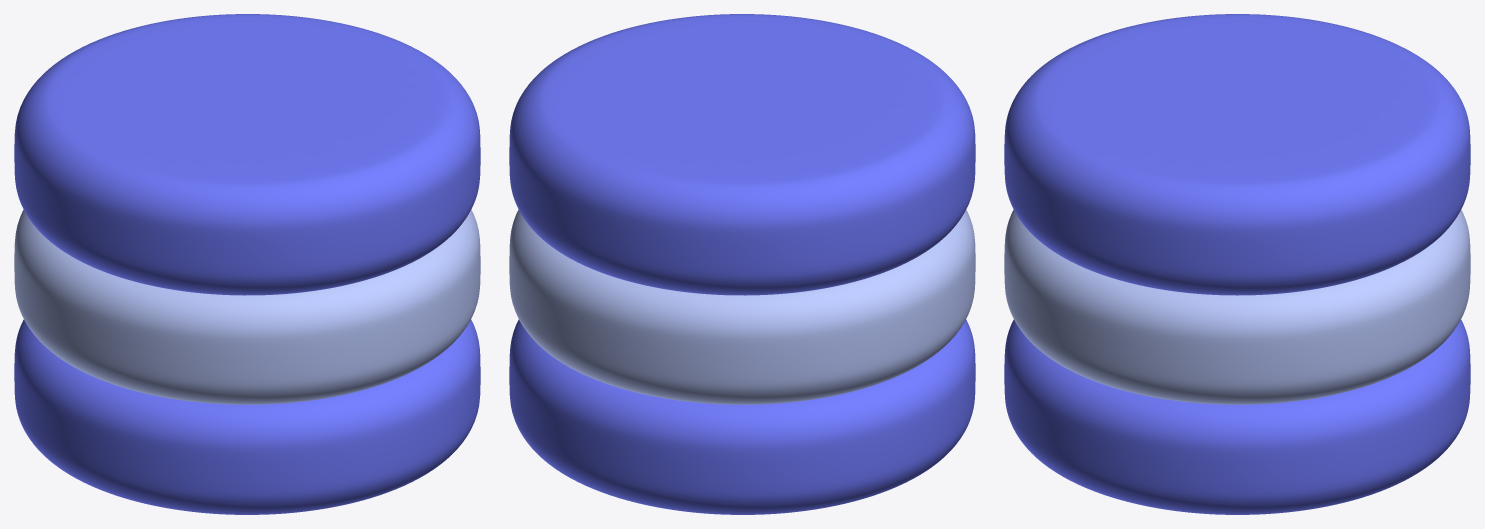
Rendered from triple-cylinder-loading-animated-3d-icon-108989626044.glb.
The picture shows the model from 3 angles, left to right: view 1: azimuth 30°, elevation 25°; view 2: azimuth 150°, elevation 25°; view 3: azimuth 270°, elevation 25°; orthographic projection.
Parts seen in each view (by area): view 1: Cylinder.003, Cylinder.005, Cylinder.004; view 2: Cylinder.003, Cylinder.005, Cylinder.004; view 3: Cylinder.003, Cylinder.005, Cylinder.004.
Part boxes in pixels (left/top/right/bottom): Cylinder.003: left=14, top=14, right=480, bottom=295; Cylinder.005: left=14, top=319, right=480, bottom=514; Cylinder.004: left=14, top=209, right=480, bottom=404; Cylinder.003: left=509, top=14, right=975, bottom=295; Cylinder.005: left=509, top=319, right=975, bottom=514; Cylinder.004: left=509, top=209, right=975, bottom=404; Cylinder.003: left=1004, top=14, right=1470, bottom=295; Cylinder.005: left=1004, top=319, right=1470, bottom=514; Cylinder.004: left=1004, top=209, right=1470, bottom=404.
Bounding box in the file's own units: 1.99 × 1.56 × 1.99.
